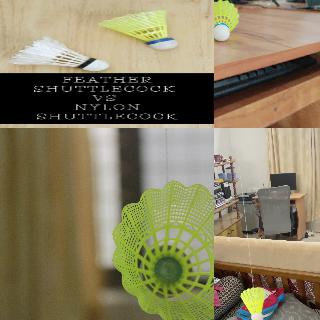shuttlecock: (112, 180, 213, 319), (97, 10, 178, 48), (214, 0, 239, 42), (240, 287, 265, 319)
